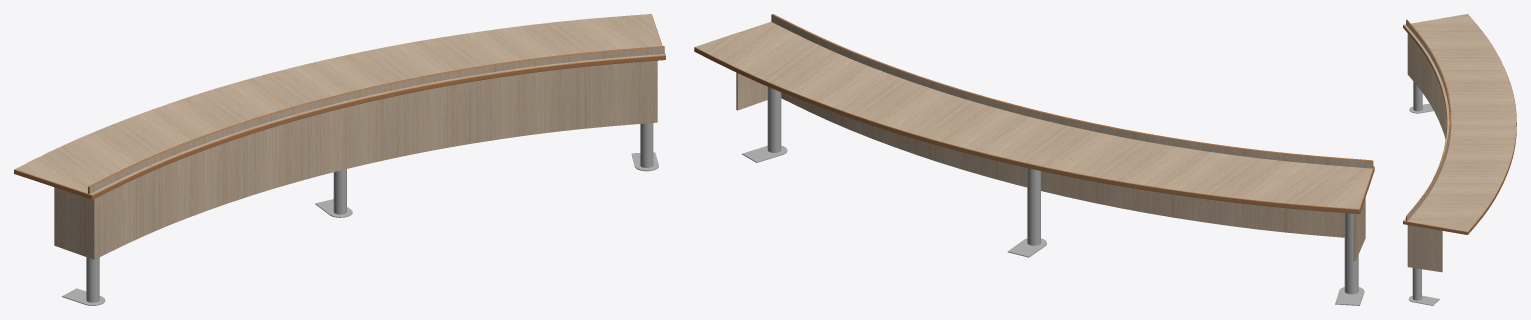
Rendered from CenterTableB.fbx.
3 renders of one model, left to right at view 1: azimuth 30°, elevation 25°; view 2: azimuth 150°, elevation 25°; view 3: azimuth 270°, elevation 25°, orthographic. The views are drawn at different scales.
Parts seen in each view (by area): view 1: CenterTableB; view 2: CenterTableB; view 3: CenterTableB.
Boxes of the visible parts, x1,y1,x2,y2 form: CenterTableB: (14, 14, 665, 305); CenterTableB: (694, 14, 1374, 305); CenterTableB: (1403, 14, 1516, 305).
Size of the model in its own units: 466 by 85.99 by 103.
Materials: 3 (1 with a texture image).
